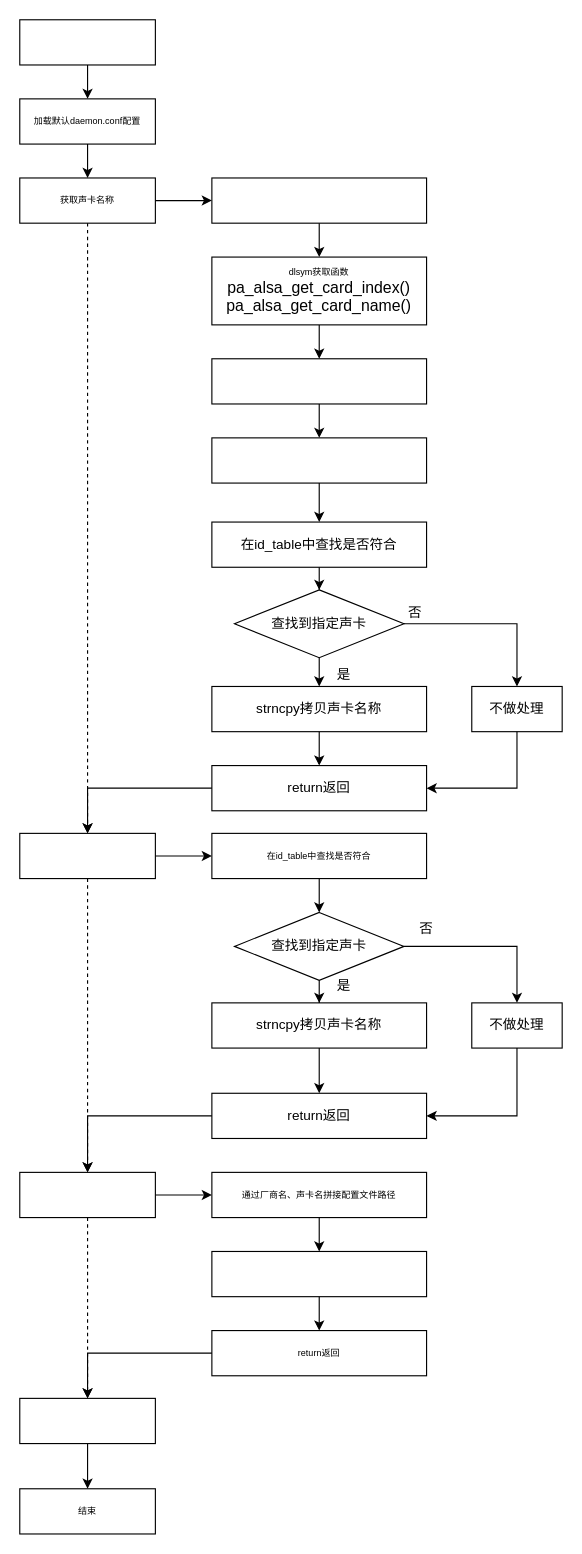
Some shapes in this 582 by 1554 pixel diagram are drawn without their labels. The box of each missing label's shape, as (x1, y1, x2, y2) in pixels:
dlopen加载alsa-util.so: (211, 177, 427, 223)
pa_alsa_get_card_index() 获取声卡索引: (211, 358, 427, 404)
pa_alsa_get_card_name() 获取声卡名称: (211, 437, 427, 483)
开始: (19, 19, 155, 65)
获取厂商名称: (19, 832, 155, 879)
调用 pa_daemon_conf_load加载: (211, 1250, 427, 1297)
进行后续解析和处理: (19, 1397, 155, 1444)
配置文件再加载: (19, 1171, 155, 1218)
